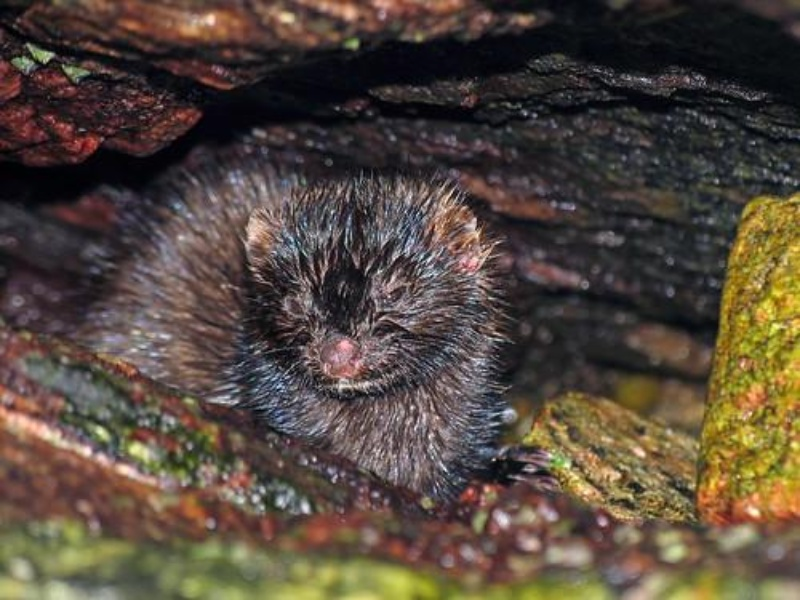minkish: (86, 167, 513, 517)
